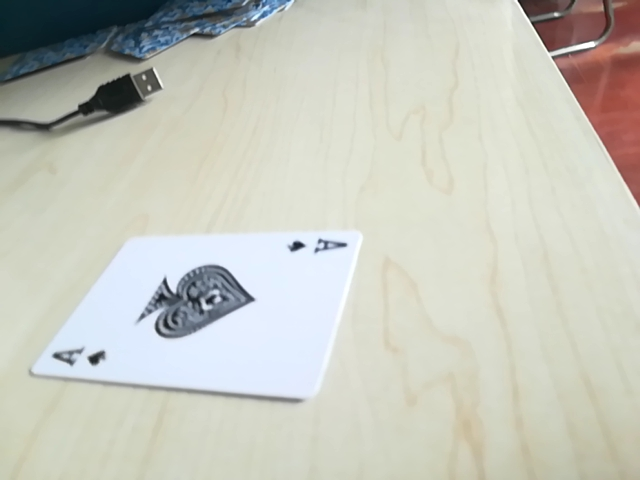ht a: (41, 338, 113, 378), (283, 231, 352, 264)
